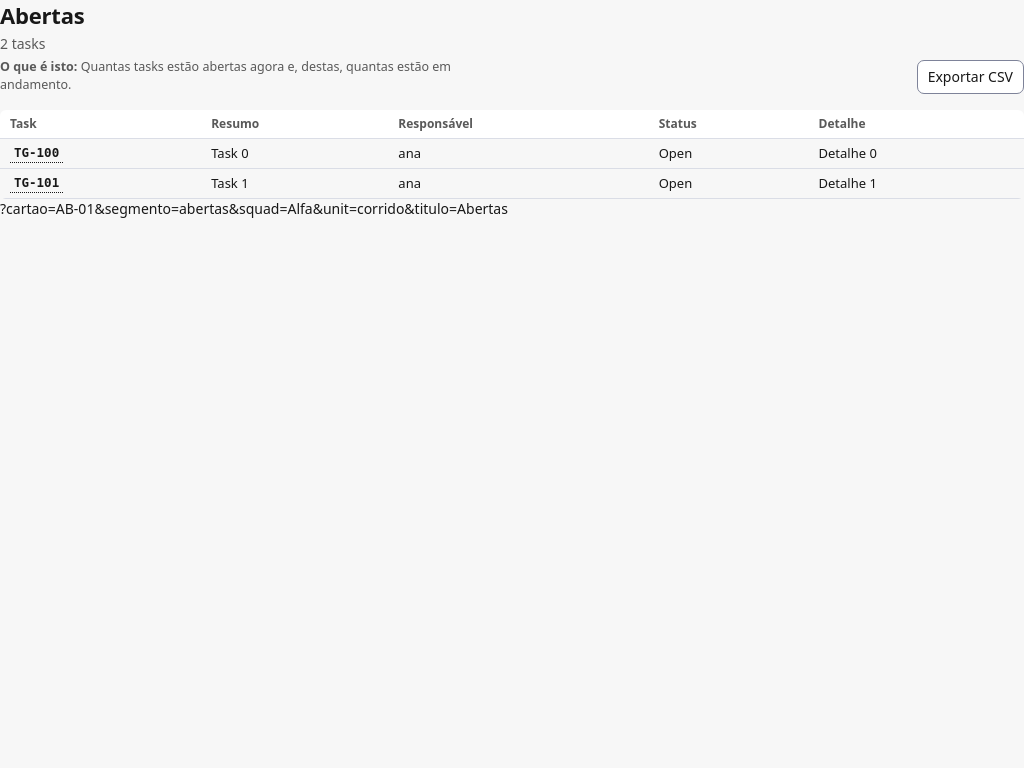
Test: Detalhe em nova aba › chaveAbreAGavetaDaTask
Click the button "TG-100" at (37, 153), box [10, 144, 63, 163]
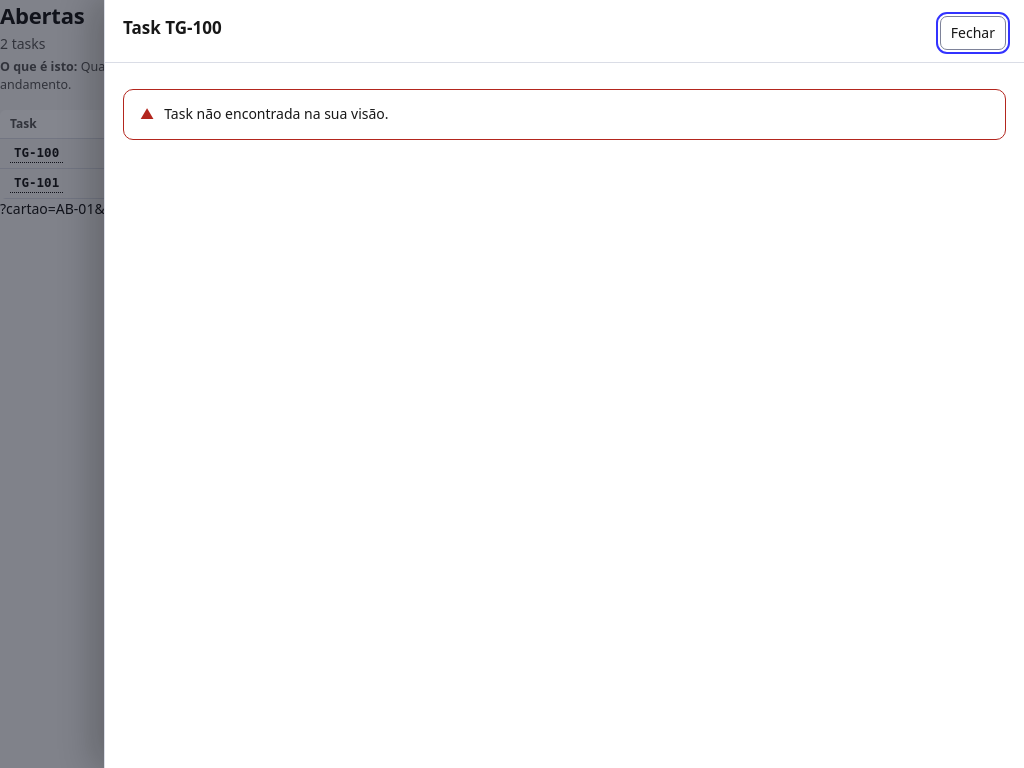
Now the text "Task não encontrada na sua visão." is shown, box [123, 89, 1006, 140]
